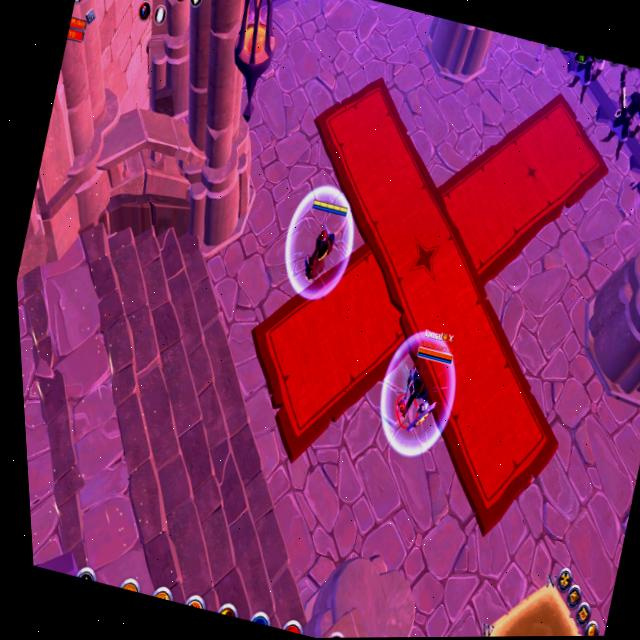ore: (587, 62, 640, 183), (556, 51, 609, 115)
red: (365, 312, 471, 454), (285, 189, 361, 298)
